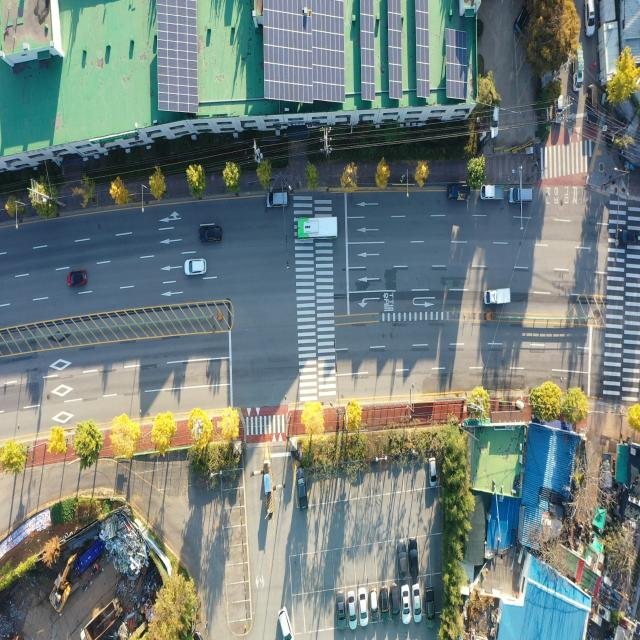car: (514, 2, 529, 37), (297, 464, 308, 506), (583, 0, 595, 37), (587, 87, 598, 126), (184, 260, 207, 278), (200, 227, 223, 245), (508, 189, 532, 206), (268, 192, 290, 210), (410, 538, 420, 577), (426, 586, 435, 626), (337, 593, 347, 629), (619, 230, 640, 247), (348, 590, 357, 629), (358, 588, 367, 626), (414, 585, 422, 623), (398, 542, 406, 580), (401, 586, 409, 623), (68, 272, 86, 288), (488, 108, 497, 139), (381, 588, 390, 618), (391, 587, 399, 620), (557, 98, 566, 126), (430, 456, 438, 486), (369, 589, 377, 614)
large_bus: (296, 215, 340, 240)
medium_truck: (77, 595, 129, 640)
small_truck: (599, 452, 613, 492), (485, 288, 512, 306), (574, 46, 584, 92), (481, 183, 504, 201), (448, 184, 470, 202)
